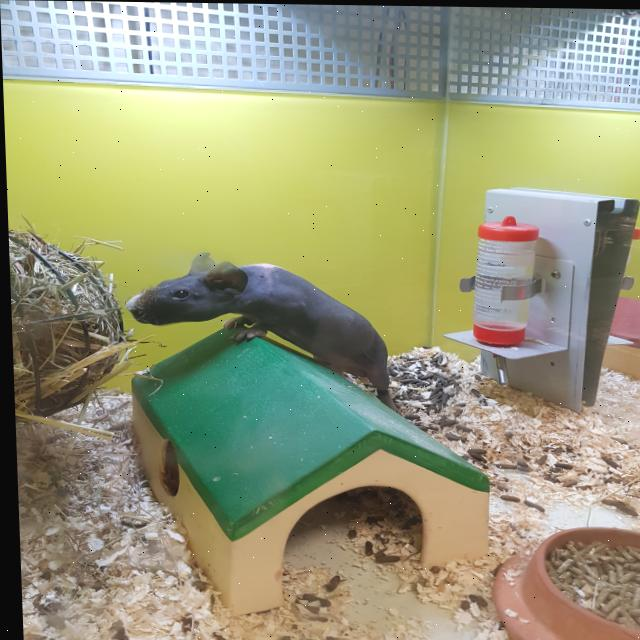guinea pig: (117, 247, 405, 419)
